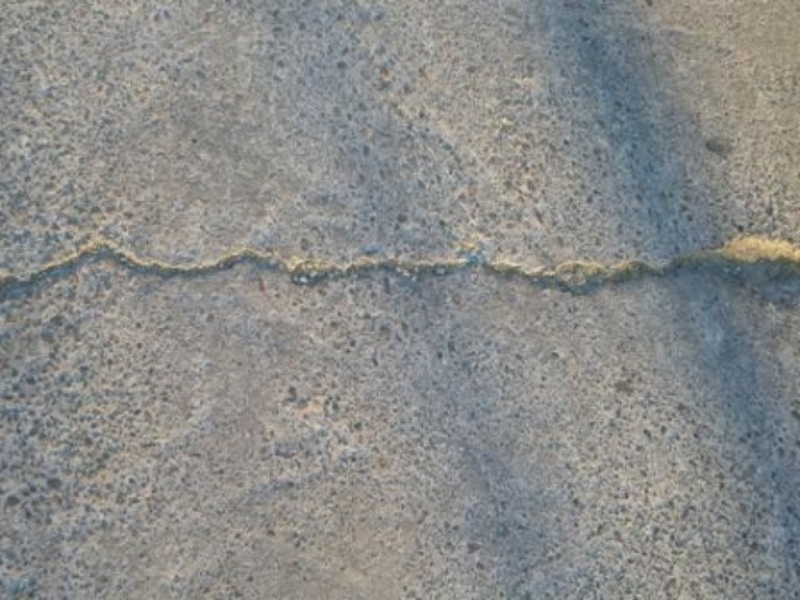crack: (5, 210, 777, 362)
